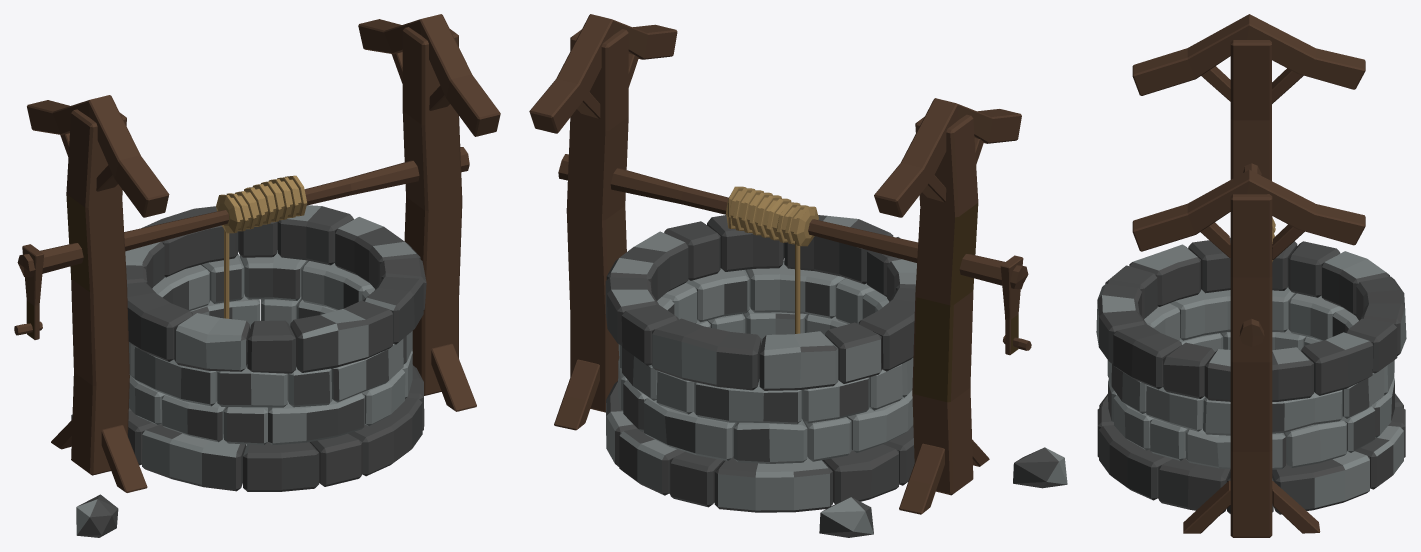
File: Brunnen1.fbx
3 views of the same model, side by side, from view 1: azimuth 30°, elevation 25°; view 2: azimuth 150°, elevation 25°; view 3: azimuth 270°, elevation 25° (orthographic). The views are drawn at different scales.
Visible parts, largest first — view 1: Brunnen1; view 2: Brunnen1; view 3: Brunnen1.
Part boxes in pixels (x1,y1,x2,y2): Brunnen1: (14,14,500,537); Brunnen1: (529,14,1067,537); Brunnen1: (1096,14,1406,537).
Size of the model in its own units: 2396 by 2022 by 1494.
